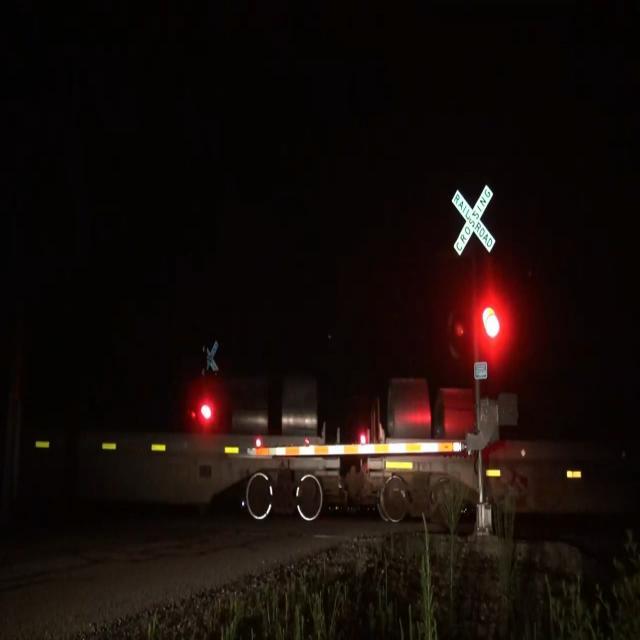flatcar: (10, 420, 342, 531), (358, 448, 640, 539)
